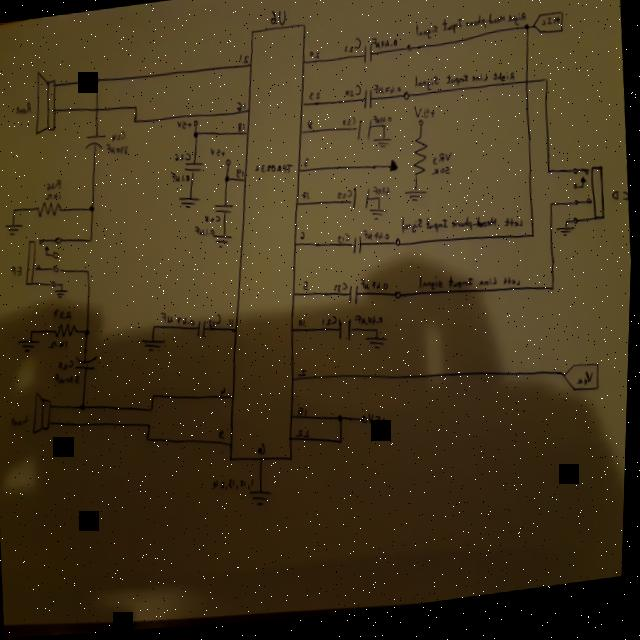capacitor: (83, 132, 109, 153), (75, 353, 100, 373), (352, 188, 372, 213), (338, 319, 355, 345), (355, 121, 371, 147), (360, 46, 374, 70), (347, 288, 361, 310), (361, 91, 374, 114), (183, 162, 204, 176), (215, 203, 234, 217), (196, 320, 208, 341), (351, 238, 363, 258)
crossover: (93, 106, 100, 114), (523, 84, 528, 90)
ground: (250, 488, 275, 511), (142, 335, 167, 354), (404, 191, 429, 209), (366, 338, 389, 356), (212, 233, 234, 251), (18, 337, 41, 354), (178, 195, 201, 212), (369, 211, 389, 227), (4, 221, 24, 236), (373, 140, 392, 153), (556, 233, 575, 245), (54, 288, 70, 298)
junction: (92, 75, 100, 84), (338, 417, 346, 426), (549, 290, 557, 299), (85, 327, 92, 336), (88, 205, 95, 213), (339, 441, 346, 449), (224, 176, 230, 185), (82, 403, 88, 411), (192, 132, 198, 140), (147, 436, 153, 443), (131, 118, 138, 124), (543, 83, 548, 89), (12, 206, 17, 212), (148, 423, 153, 429), (150, 407, 155, 413), (547, 174, 551, 181), (89, 237, 93, 244), (153, 393, 157, 399), (133, 105, 137, 111), (87, 268, 91, 274), (153, 325, 157, 331), (31, 328, 35, 334), (531, 239, 535, 245), (525, 29, 529, 35), (550, 208, 554, 213), (382, 128, 386, 132), (565, 226, 569, 230), (376, 332, 379, 336), (61, 282, 64, 286), (378, 200, 380, 204)
resistor: (386, 138, 430, 186), (36, 199, 63, 219), (53, 319, 78, 339)
source: (417, 124, 424, 132)
terminal: (23, 232, 67, 291), (569, 168, 609, 231), (563, 366, 604, 403), (531, 16, 563, 42), (393, 293, 403, 303), (224, 160, 231, 169), (402, 96, 409, 105), (406, 47, 411, 57), (396, 242, 401, 251), (193, 121, 198, 128), (364, 420, 368, 427)
text: (400, 206, 525, 249), (416, 267, 523, 307), (413, 13, 527, 45), (413, 68, 515, 100), (214, 475, 256, 497), (161, 309, 197, 331), (253, 162, 294, 181), (354, 315, 386, 333), (371, 83, 403, 101), (360, 278, 390, 297), (362, 230, 392, 247), (370, 38, 398, 56), (55, 370, 82, 387), (412, 107, 435, 125), (267, 9, 287, 29), (105, 143, 130, 158), (610, 194, 630, 211), (13, 99, 33, 115), (432, 155, 453, 170), (370, 188, 392, 202), (578, 376, 596, 393), (342, 41, 361, 57), (194, 225, 214, 240), (170, 171, 191, 185), (431, 168, 452, 182), (53, 307, 72, 321), (11, 412, 30, 426), (49, 338, 71, 350), (172, 151, 192, 164), (208, 147, 226, 161), (343, 88, 361, 102), (370, 416, 388, 430), (58, 358, 77, 371), (539, 22, 559, 34), (321, 318, 339, 331), (371, 118, 390, 130), (209, 315, 223, 331), (45, 178, 62, 191), (110, 131, 127, 144), (203, 214, 220, 226), (176, 120, 193, 132), (337, 235, 351, 249), (10, 263, 23, 277), (334, 285, 349, 297), (337, 192, 352, 204), (341, 120, 357, 131), (296, 431, 312, 442), (44, 192, 61, 202), (235, 102, 246, 116), (300, 192, 311, 205), (307, 52, 320, 63), (298, 408, 309, 421), (307, 93, 320, 104), (258, 443, 268, 457), (237, 55, 248, 67), (298, 232, 308, 245), (301, 159, 311, 172), (302, 281, 311, 295), (235, 168, 244, 182), (236, 122, 245, 136), (305, 121, 314, 135), (298, 371, 309, 381), (219, 431, 229, 442), (219, 388, 229, 397), (298, 321, 307, 331), (229, 319, 236, 330)
